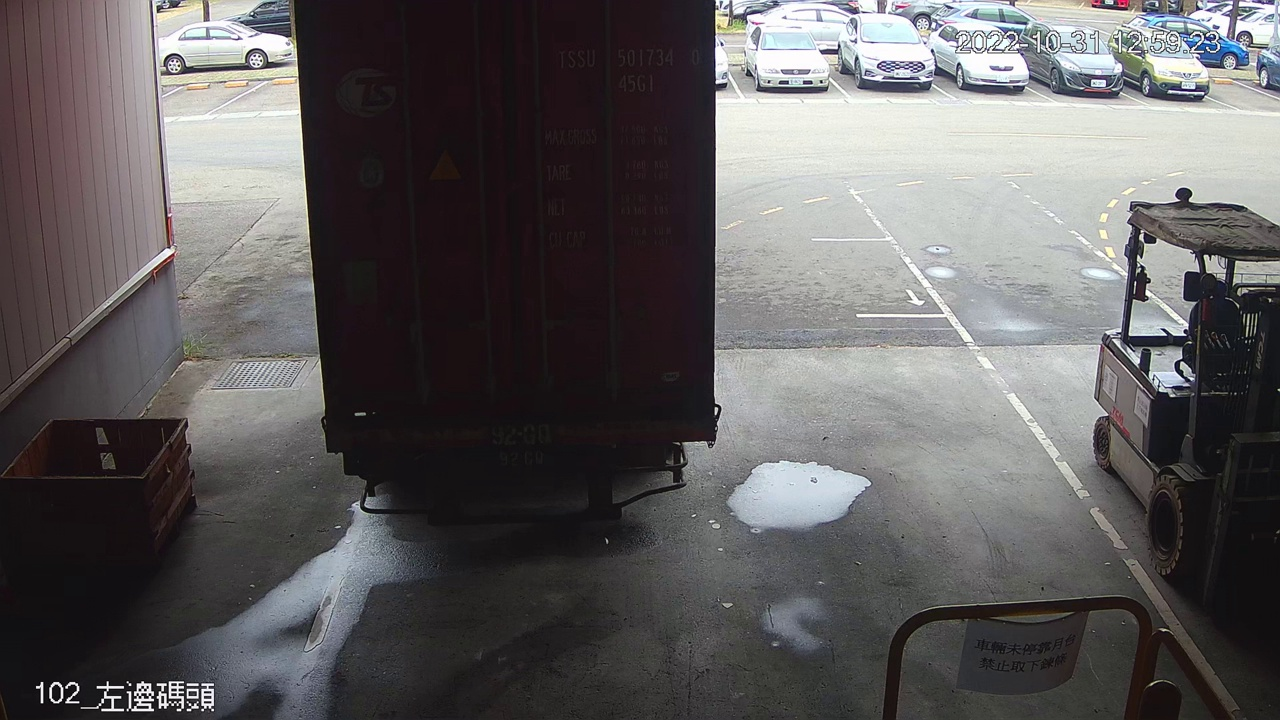container: (550, 40, 706, 100)
